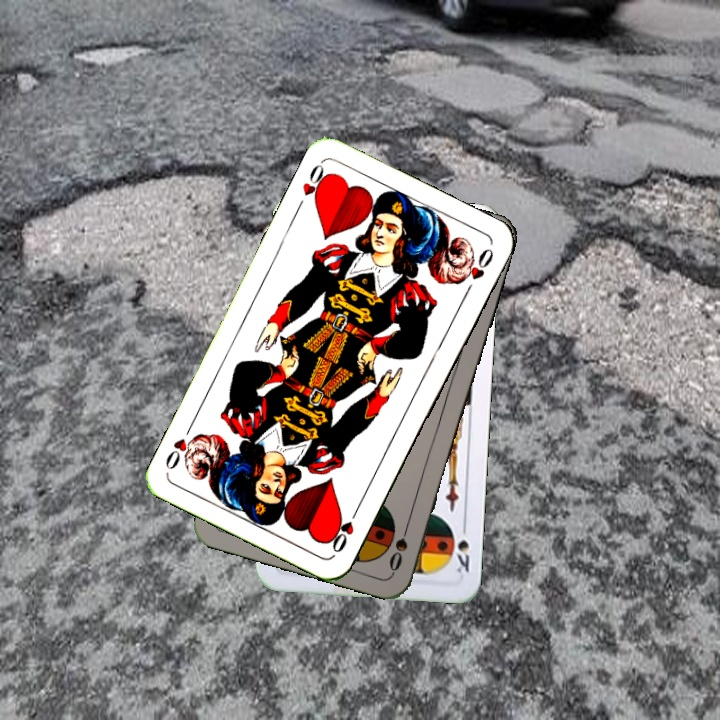HO: (292, 158, 333, 214), (327, 501, 363, 556)
SK: (447, 518, 472, 575)
SO: (385, 517, 413, 575)
